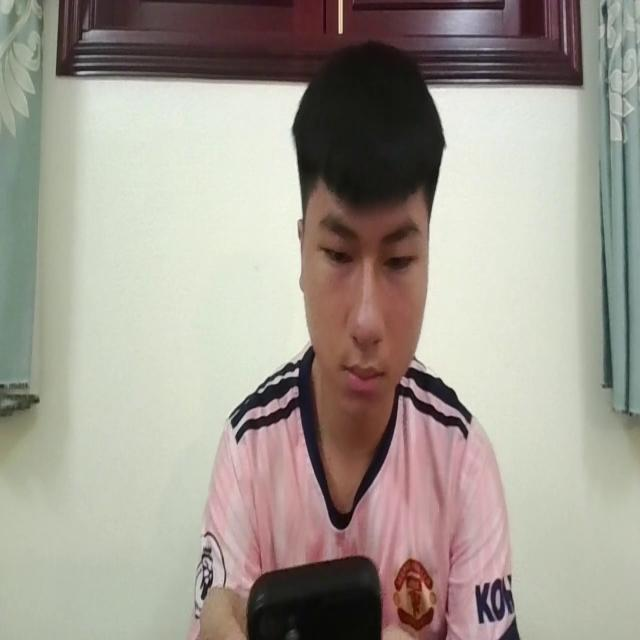phone: (245, 548, 383, 640)
student: (188, 37, 520, 640)
